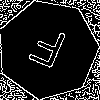F: (23, 24, 70, 78)
